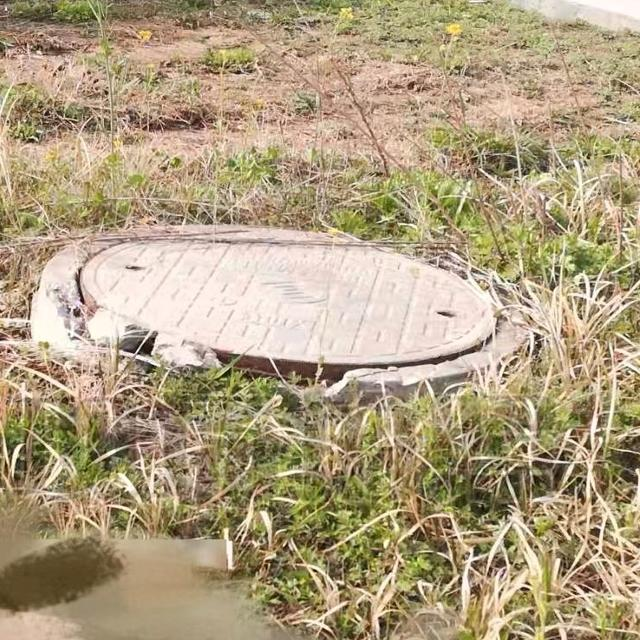circle: (36, 213, 562, 404)
